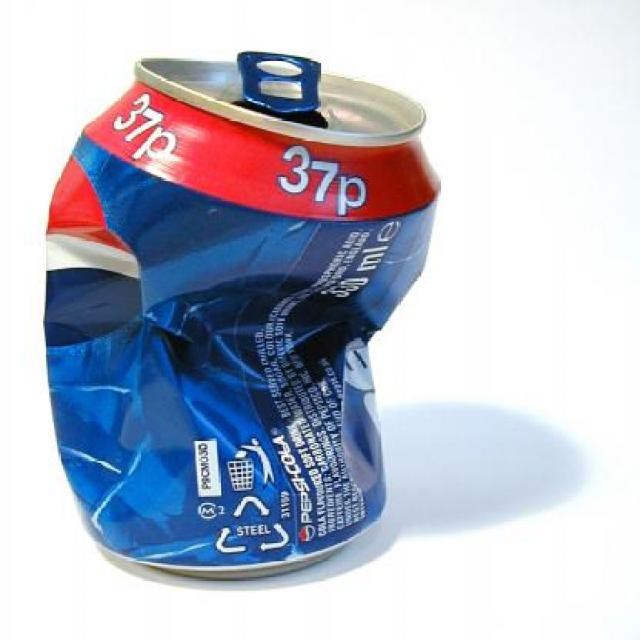non-organic waste: (28, 15, 462, 640)
